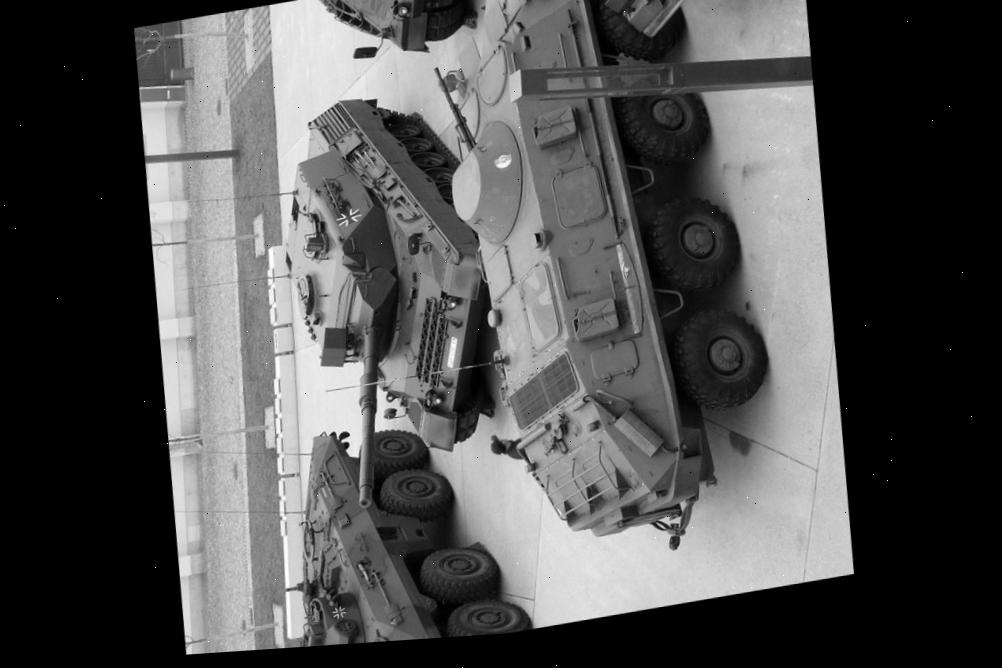armored_car: (412, 0, 795, 562), (269, 401, 541, 649), (258, 0, 519, 74)
tank: (262, 78, 519, 509)
